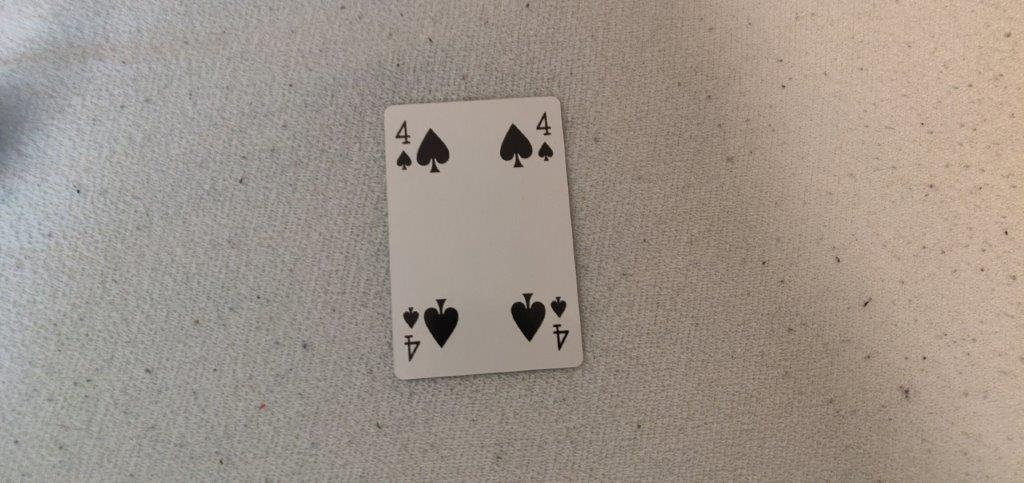4S: (389, 117, 416, 172), (534, 108, 557, 171)
